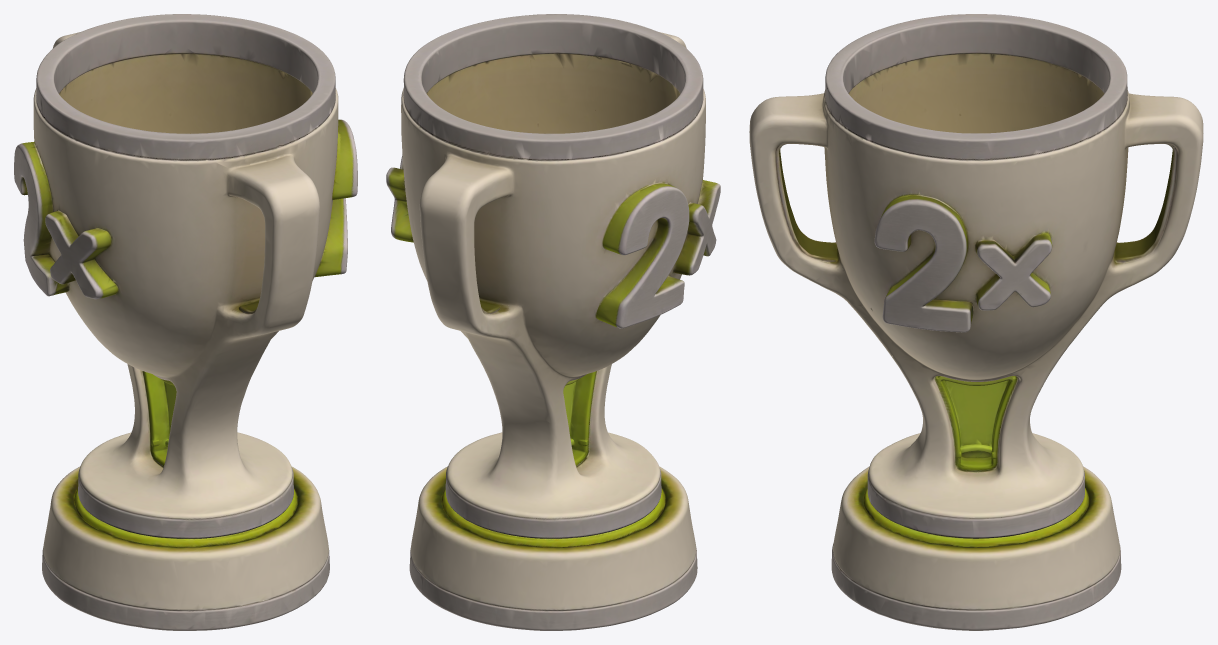
File: cathacks-2x-trophy-draco.glb
3 renders of one model, left to right at view 1: azimuth 30°, elevation 25°; view 2: azimuth 150°, elevation 25°; view 3: azimuth 270°, elevation 25°, orthographic.
Visible parts, largest first — view 1: tripo_node_cd37e7a4-cb42-4666-8f05-3db59f0c18f0; view 2: tripo_node_cd37e7a4-cb42-4666-8f05-3db59f0c18f0; view 3: tripo_node_cd37e7a4-cb42-4666-8f05-3db59f0c18f0.
Part boxes in pixels (x1,y1,x2,y2): tripo_node_cd37e7a4-cb42-4666-8f05-3db59f0c18f0: (14, 14, 357, 630); tripo_node_cd37e7a4-cb42-4666-8f05-3db59f0c18f0: (386, 14, 720, 630); tripo_node_cd37e7a4-cb42-4666-8f05-3db59f0c18f0: (749, 14, 1203, 630).
Bounding box in the file's own units: 0.6007 × 1 × 0.8274.
Materials: 1 (1 with a texture image).
